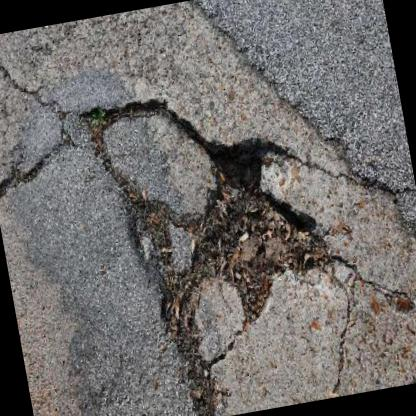pothole: (76, 65, 350, 390)
